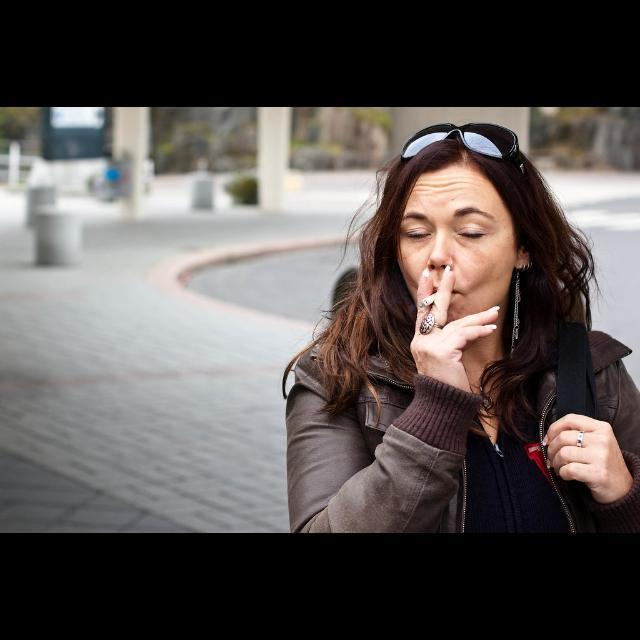rokok: (417, 292, 441, 308)
